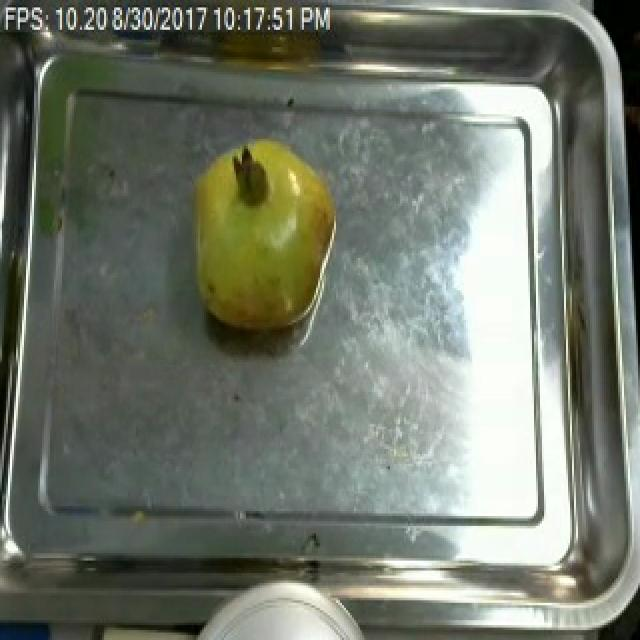fruit: (176, 126, 346, 340), (174, 585, 376, 640)
